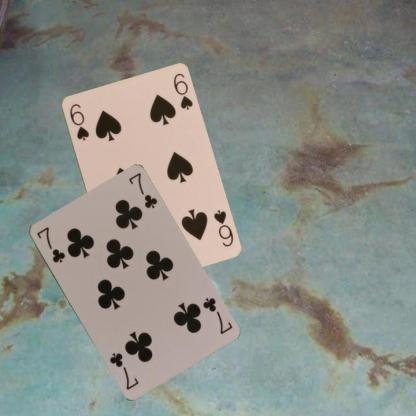6s: (210, 207, 234, 248), (67, 101, 90, 142)
7c: (199, 295, 233, 335), (34, 224, 66, 264)
